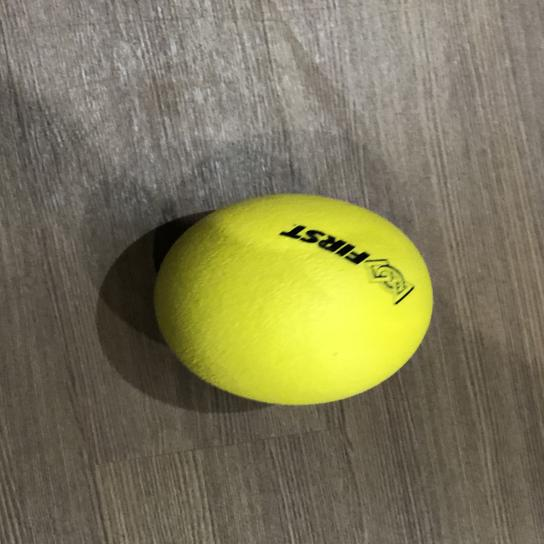ball: (149, 189, 442, 412)
